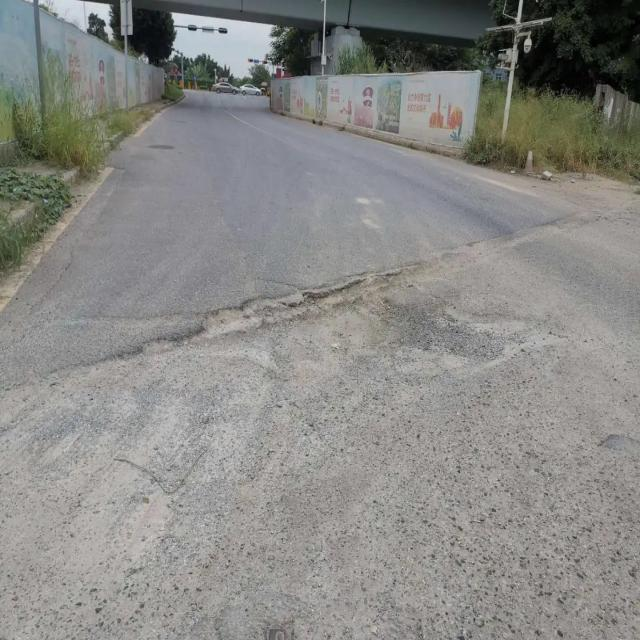Pothole: (148, 262, 430, 359)
